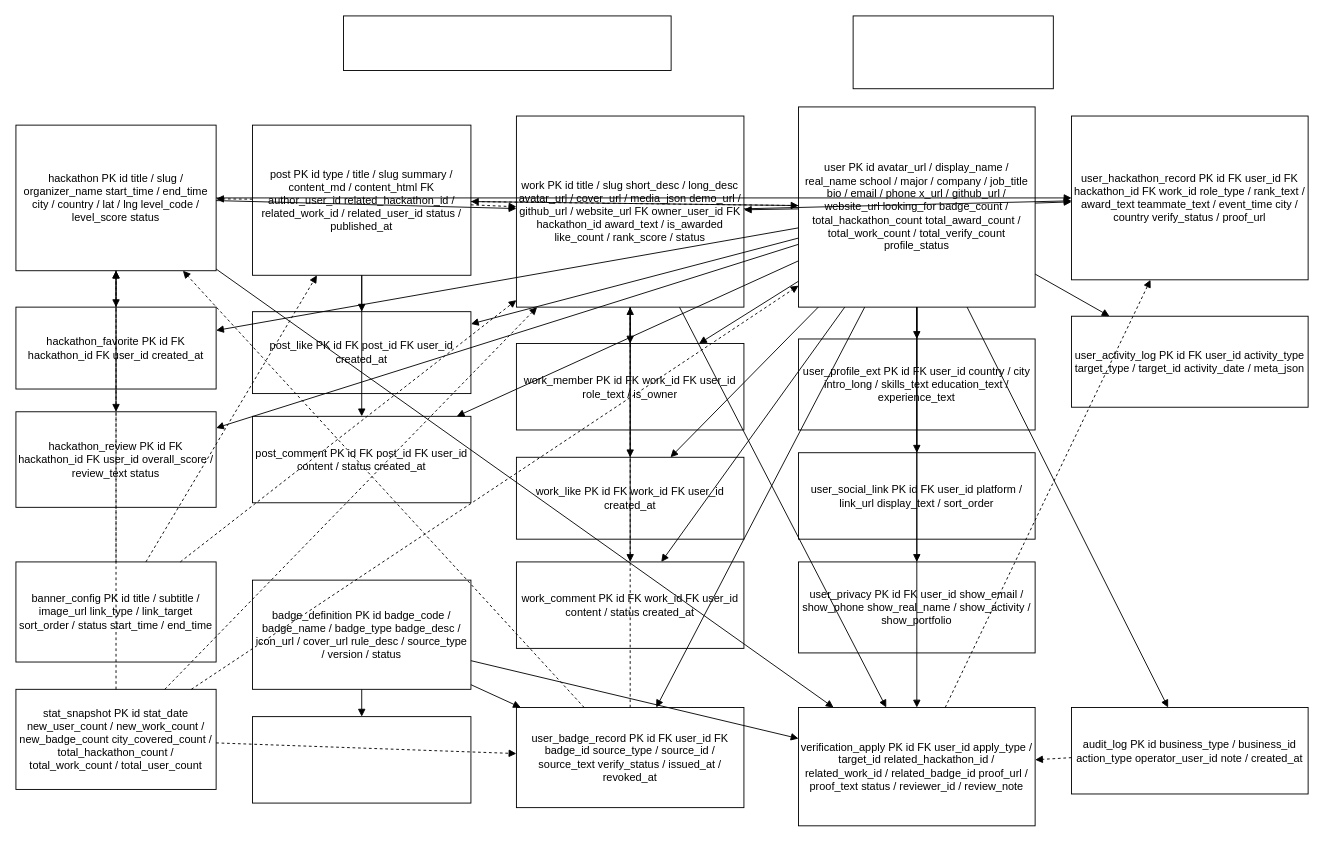
Image size: 1324x842. Some labels were removed from this diagram. The shapes that lost their labels are listed below. From the top down, each one's centre as x and y in pixels, then its label:
At [507,43]: "Hackathon University MVP Database ER Diagram / Core Table Relations".
At [952,52]: "Legend solid = main FK relation dashed = optional / derived / weak relation".
At [361,759]: "badge_rule PK id FK badge_id rule_type / rule_value rule_json / status".
